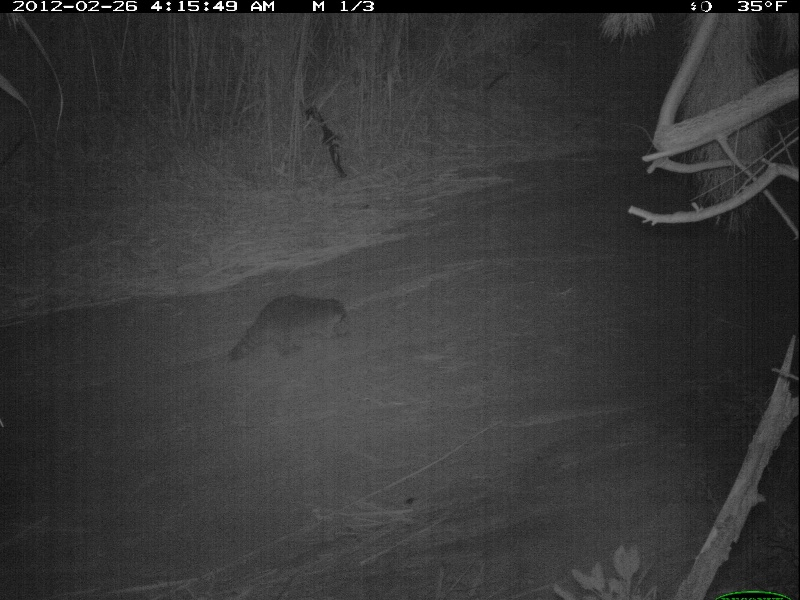raccoon: (228, 294, 350, 365)
